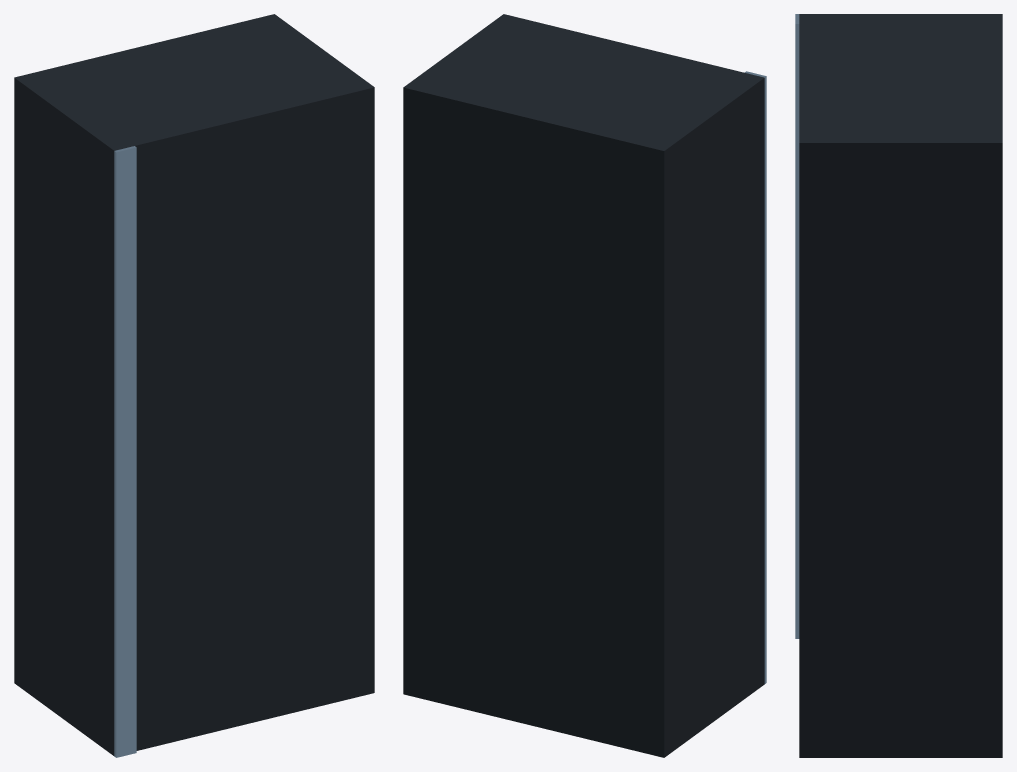
The model's file is Hall_Column.gltf.
3 renders of one model, left to right at view 1: azimuth 30°, elevation 25°; view 2: azimuth 150°, elevation 25°; view 3: azimuth 270°, elevation 25°, orthographic.
Visible parts, largest first — view 1: Hall_Column_baked; view 2: Hall_Column_baked; view 3: Hall_Column_baked.
Part boxes in pixels (x1=…): Hall_Column_baked: x1=14, y1=14, x2=374, y2=757; Hall_Column_baked: x1=403, y1=14, x2=766, y2=757; Hall_Column_baked: x1=795, y1=14, x2=1002, y2=757.
Bounding box in the file's own units: 0.45 × 1 × 0.306.
